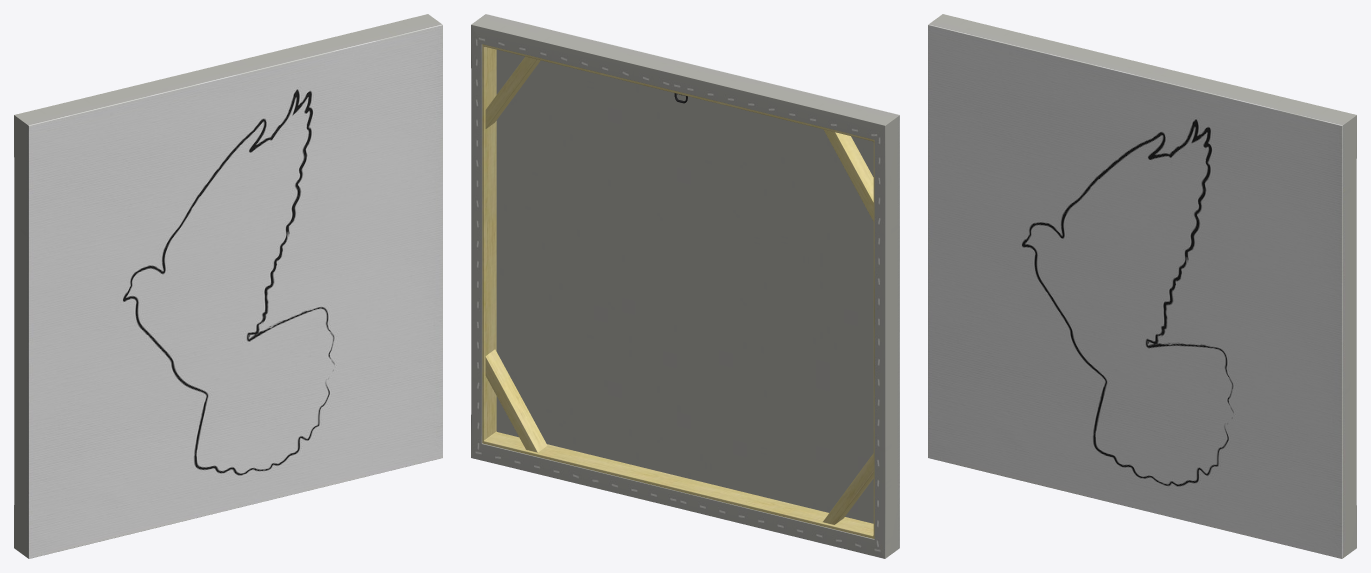
File: B075HRC94H.glb
3 renders of one model, left to right at view 1: azimuth 30°, elevation 25°; view 2: azimuth 150°, elevation 25°; view 3: azimuth 330°, elevation 25°, orthographic.
Parts seen in each view (by area): view 1: RootNode; view 2: RootNode; view 3: RootNode.
Part boxes in pixels (left/top/right/bottom): RootNode: left=14, top=14, right=442, bottom=558; RootNode: left=471, top=14, right=899, bottom=558; RootNode: left=928, top=14, right=1356, bottom=558.
Size of the model in its own units: 0.6096 by 0.6096 by 0.0381.
1 material, 1 textured.
